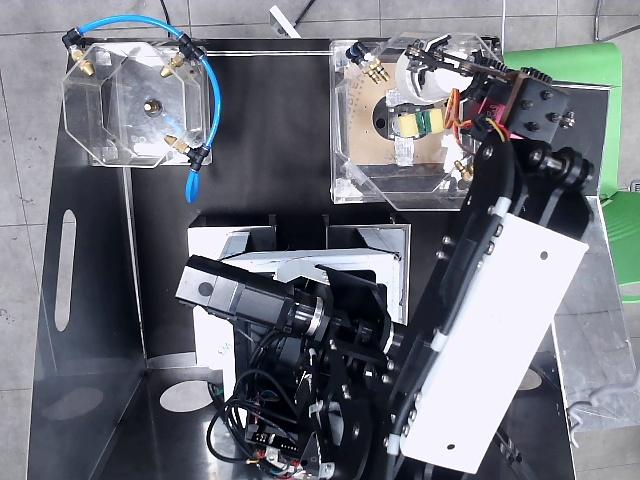cup: (396, 39, 470, 104)
